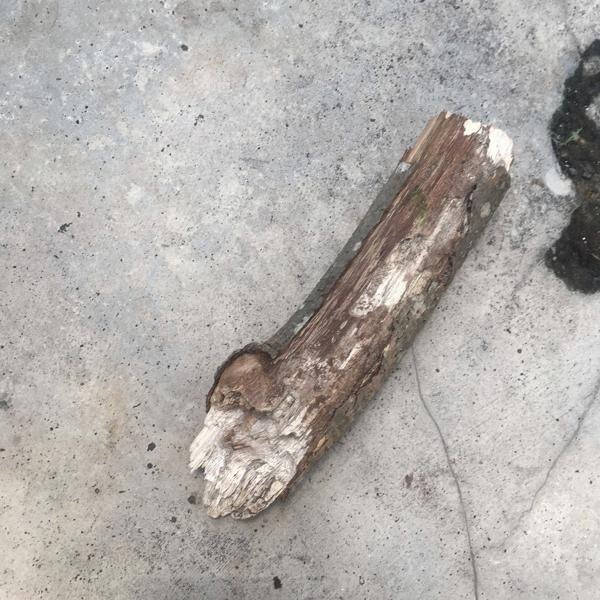Organik: (146, 111, 521, 517)
